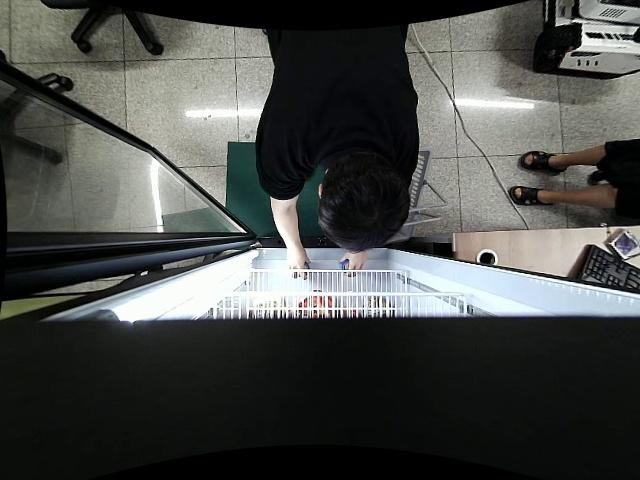00_hand: (285, 249, 311, 281), (339, 249, 366, 279)
